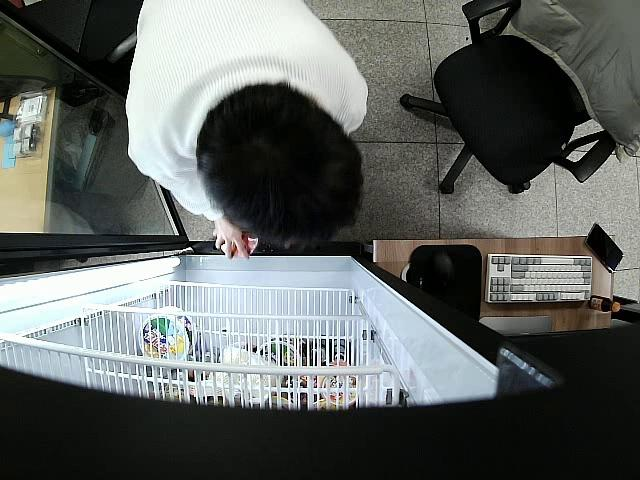00_hand: (209, 220, 251, 263)
05_nuguri_L: (221, 222, 259, 258)
